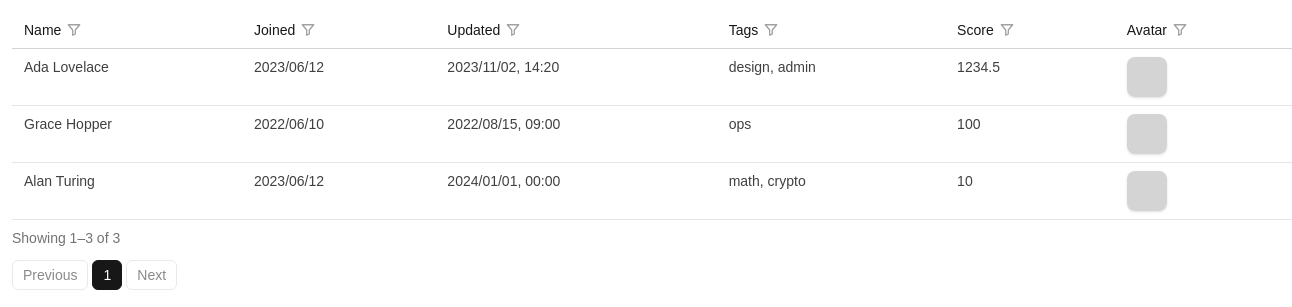
Test: Table local filter › matches array filters case-insensitively on the joined value
Step 1. Click the button named "Filter Tags" → (771, 30), box [762, 21, 780, 39]
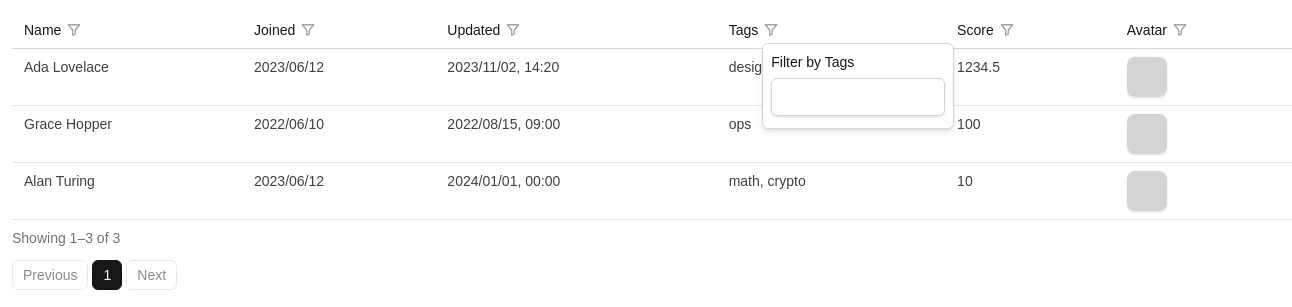
Step 2. Type "CRYPTO" into the field labelled "Filter by Tags" → (858, 97), box [771, 78, 945, 116]
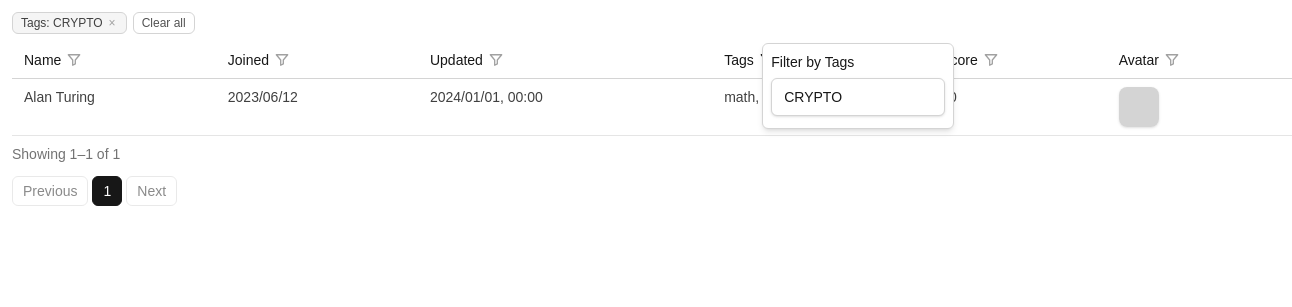
Check: the text "Alan Turing" is shown, box [12, 78, 216, 136]
Check: the text "Ada Lovelace" is gone
Check: the text "Grace Hopper" is gone
